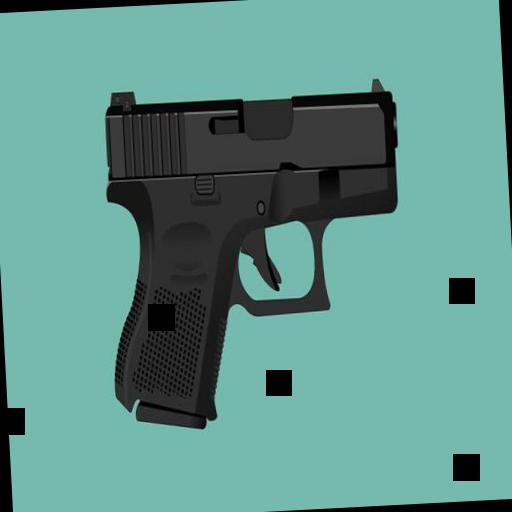Handgun: (96, 68, 411, 438)
